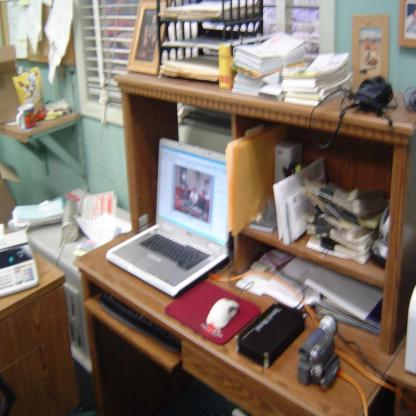board: (108, 132, 242, 307)
